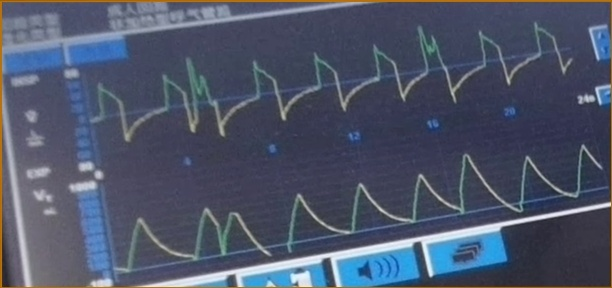Double_Triggering Flow: (90, 22, 577, 138)
Double_Triggering Volume: (114, 145, 604, 272)
